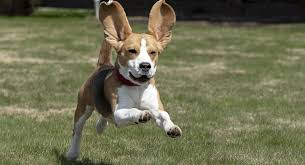dog: (53, 1, 194, 164)
